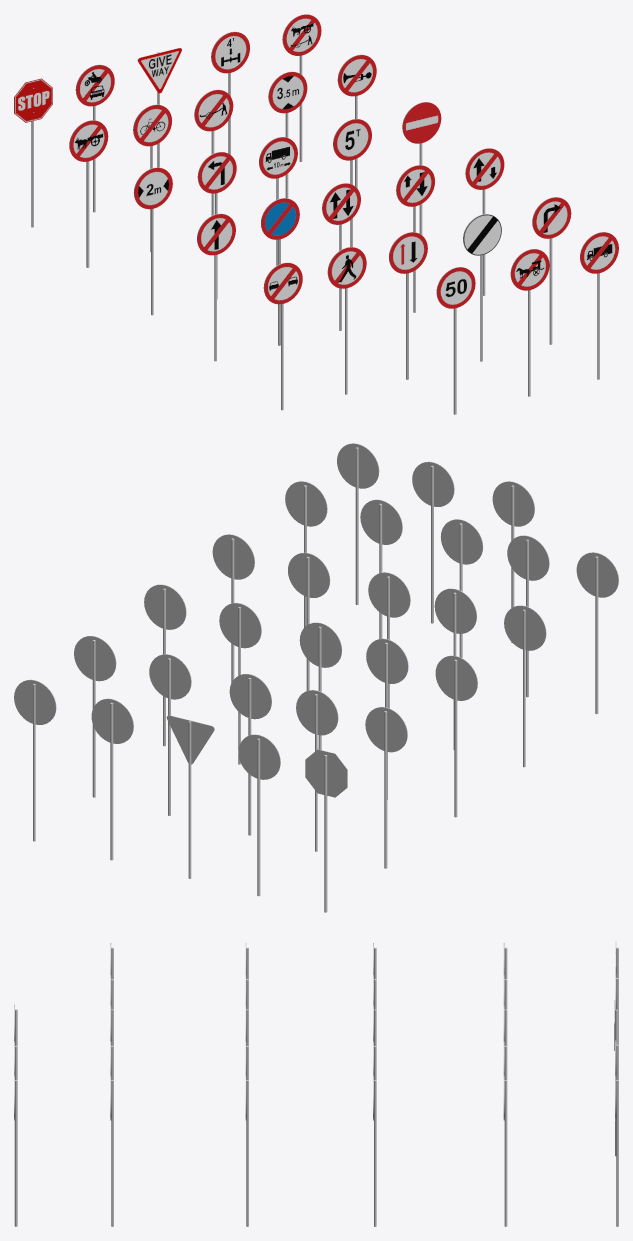
Rendered from mum_road_signs.glb.
The picture shows the model from 3 angles, top to bottom: view 1: azimuth 30°, elevation 25°; view 2: azimuth 150°, elevation 25°; view 3: azimuth 270°, elevation 25°; orthographic projection. The views are drawn at different scales.
Visible parts, largest first — view 1: STOP_SIGN_0, Horn_Prohibited_7, Height_Limit_8, One_Way_Traffic_2_17, Speed_Limit_29, Bullock_Cart_And_Hand_Cart_Prohibited_6, Pedestrians_Prohibited_25, Left_Turn_Prohibited_15, Tongas_Prohibited_28, All_Motor_Vehicles_Prohibited_3, Bullock_Cart_Prohibited_11, Length_Limit_14 (+16 smaller); view 2: STOP_SIGN_0, All_Motor_Vehicles_Prohibited_3, Cycle_Prohibited_10, Bullock_Cart_Prohibited_11, Width_Limit_16, Speed_Limit_29, One_Way_Traffic_2_17, Overtaking_Prohibited_26, Axle_Load_Limit_5, Restriction_Ends_23, No_Parking_20, Load_Limit_13 (+22 smaller); view 3: Cylinder.007_35, Cylinder.027_55, Cylinder.006_34, Cylinder.012_40, Cylinder.017_45, Cylinder.022_50.
Boxes of the visible parts, bbox=[...] form: STOP_SIGN_0: bbox=[14, 78, 52, 122]; Horn_Prohibited_7: bbox=[337, 54, 376, 96]; Height_Limit_8: bbox=[268, 71, 307, 113]; One_Way_Traffic_2_17: bbox=[465, 148, 504, 189]; Speed_Limit_29: bbox=[436, 267, 475, 308]; Bullock_Cart_And_Hand_Cart_Prohibited_6: bbox=[282, 14, 321, 55]; Pedestrians_Prohibited_25: bbox=[327, 247, 366, 288]; Left_Turn_Prohibited_15: bbox=[197, 152, 236, 193]; Tongas_Prohibited_28: bbox=[510, 249, 549, 290]; All_Motor_Vehicles_Prohibited_3: bbox=[75, 64, 114, 106]; Bullock_Cart_Prohibited_11: bbox=[69, 120, 108, 161]; Length_Limit_14: bbox=[259, 137, 297, 178]; STOP_SIGN_0: bbox=[305, 749, 347, 797]; All_Motor_Vehicles_Prohibited_3: bbox=[238, 734, 280, 779]; Cycle_Prohibited_10: bbox=[296, 690, 338, 735]; Bullock_Cart_Prohibited_11: bbox=[365, 707, 407, 752]; Width_Limit_16: bbox=[435, 655, 477, 700]; Speed_Limit_29: bbox=[492, 481, 534, 526]; One_Way_Traffic_2_17: bbox=[212, 534, 254, 579]; Overtaking_Prohibited_26: bbox=[576, 552, 618, 597]; Axle_Load_Limit_5: bbox=[91, 698, 133, 743]; Restriction_Ends_23: bbox=[360, 499, 402, 544]; No_Parking_20: bbox=[434, 588, 476, 633]; Load_Limit_13: bbox=[219, 603, 261, 648]; Cylinder.007_35: bbox=[504, 1080, 507, 1226]; Cylinder.027_55: bbox=[14, 1080, 17, 1226]; Cylinder.006_34: bbox=[616, 1080, 618, 1226]; Cylinder.012_40: bbox=[374, 1080, 376, 1226]; Cylinder.017_45: bbox=[246, 1080, 248, 1226]; Cylinder.022_50: bbox=[111, 1080, 113, 1226].
Bounding box in the file's own units: 5.15 × 2.36 × 8.69.
29 materials, 28 textured.
